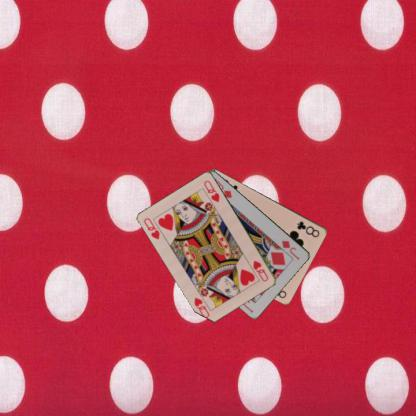8c: (294, 218, 320, 238)
Jd: (279, 238, 301, 261)
Qh: (250, 258, 270, 283), (142, 215, 161, 241)
